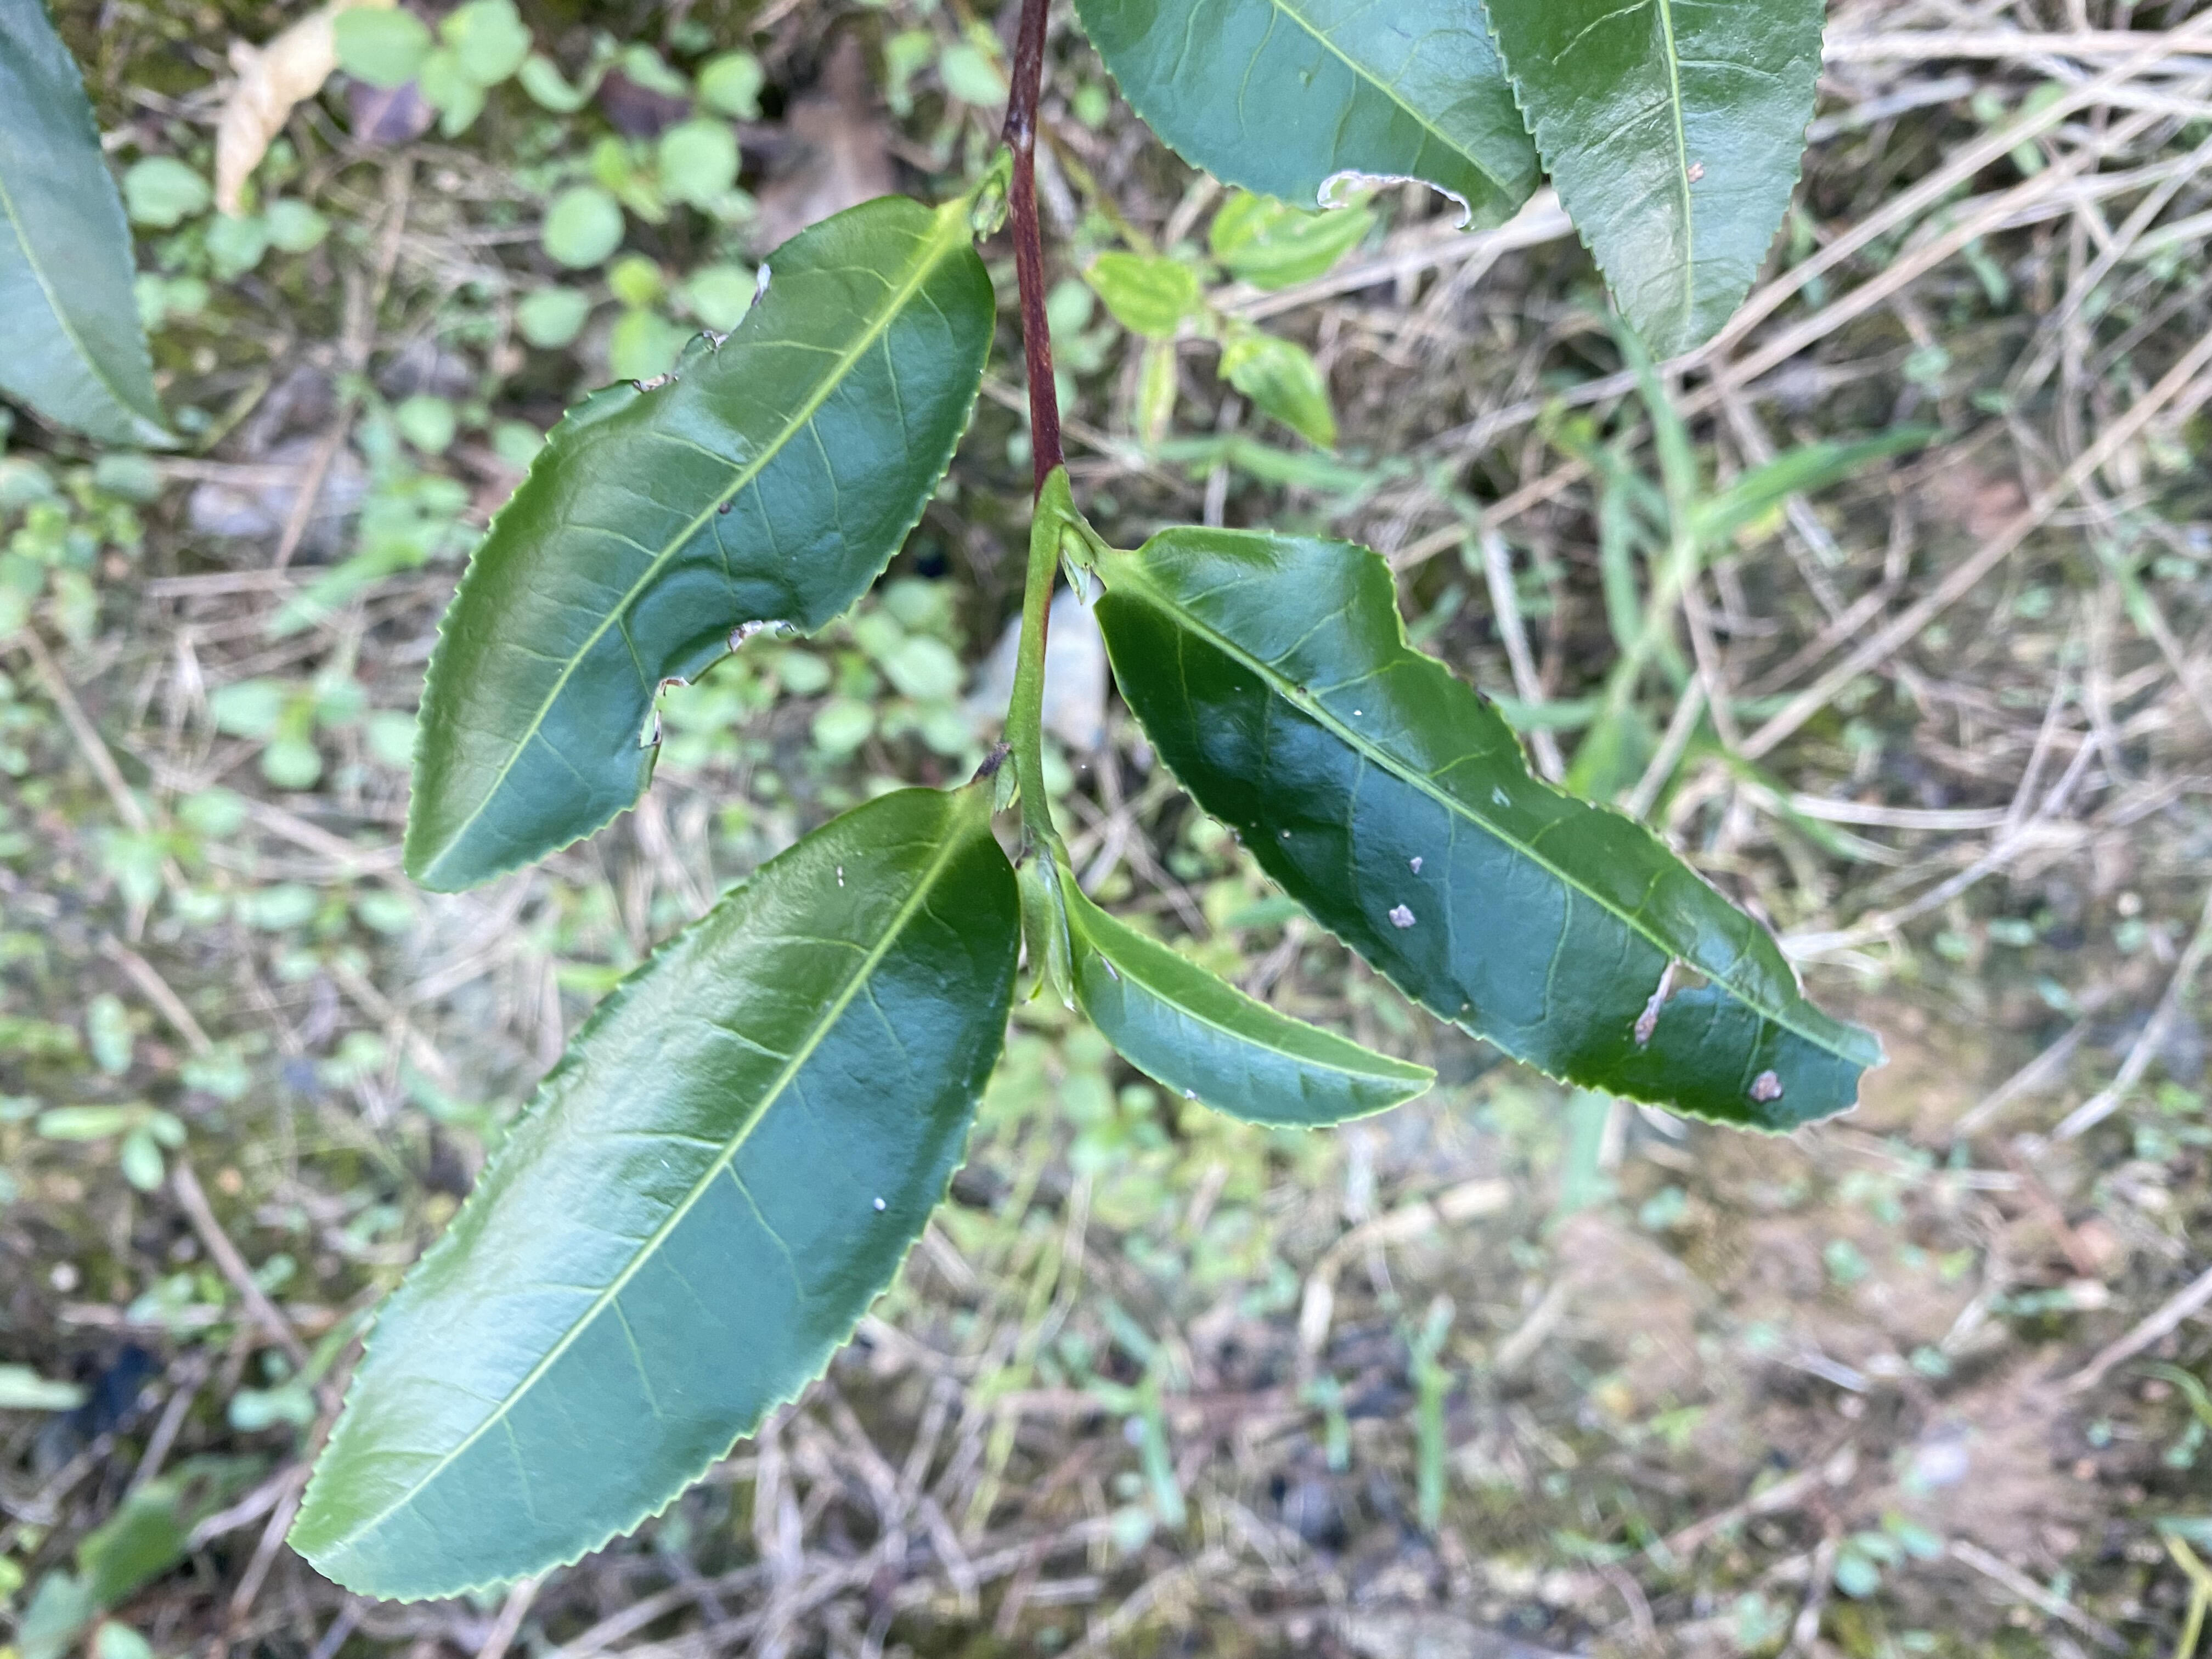chihuo_high: (399, 192, 1000, 896)
chihuo_low: (1078, 2, 1543, 232)
healthy: (3, 7, 188, 450)
tanju_low: (284, 788, 1026, 1605), (1094, 526, 1888, 1140), (1480, 0, 1831, 362)
